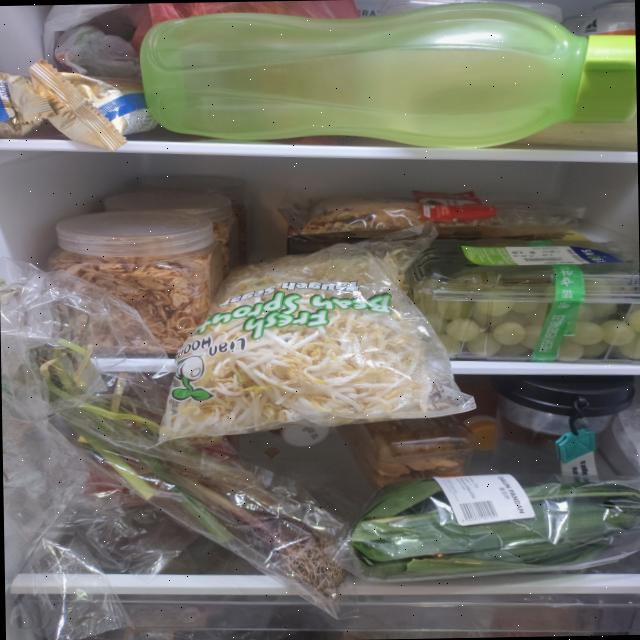bean_sprouts: (160, 246, 434, 440)
grape: (412, 265, 640, 364)
leafy_greens: (348, 472, 640, 582)
spring_onion: (0, 331, 350, 604)
